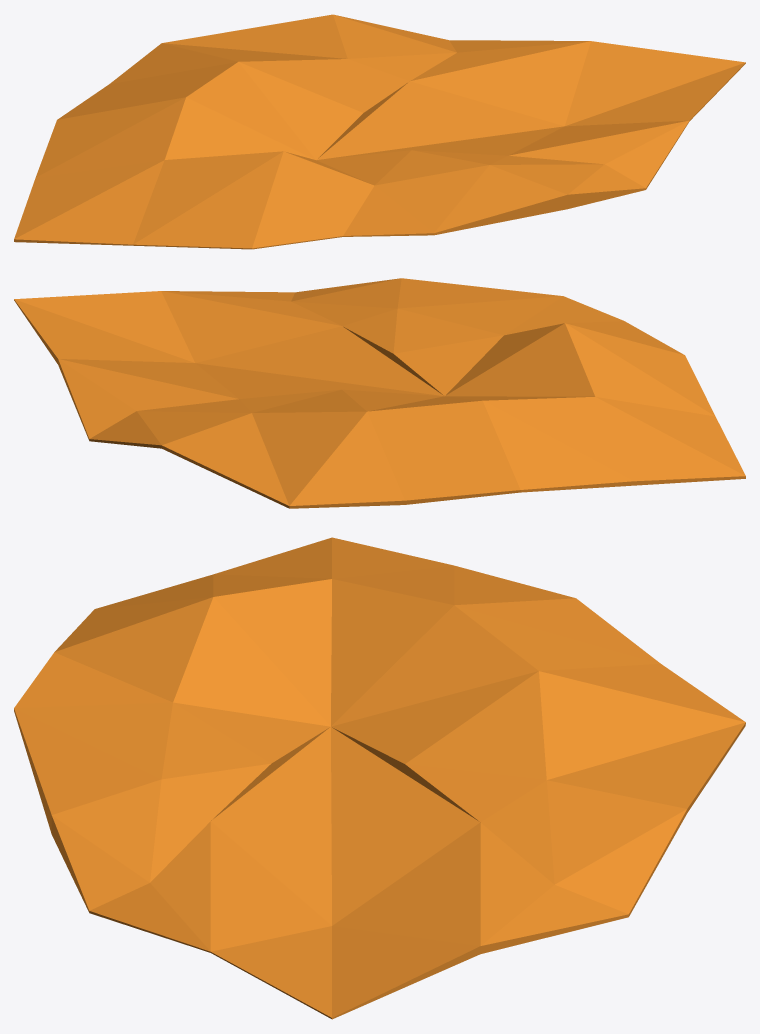
The model's file is Leaf4.dae.
3 views of the same model, one above another, from view 1: azimuth 30°, elevation 25°; view 2: azimuth 150°, elevation 25°; view 3: azimuth 270°, elevation 25° (orthographic). The views are drawn at different scales.
Visible parts, largest first — view 1: Plane; view 2: Plane; view 3: Plane.
Part boxes in pixels (bbox=[...]): Plane: bbox=[14, 14, 745, 249]; Plane: bbox=[14, 278, 745, 508]; Plane: bbox=[14, 537, 745, 1019].
Bounding box in the file's own units: 1.24 × 0.8045 × 0.1698.
